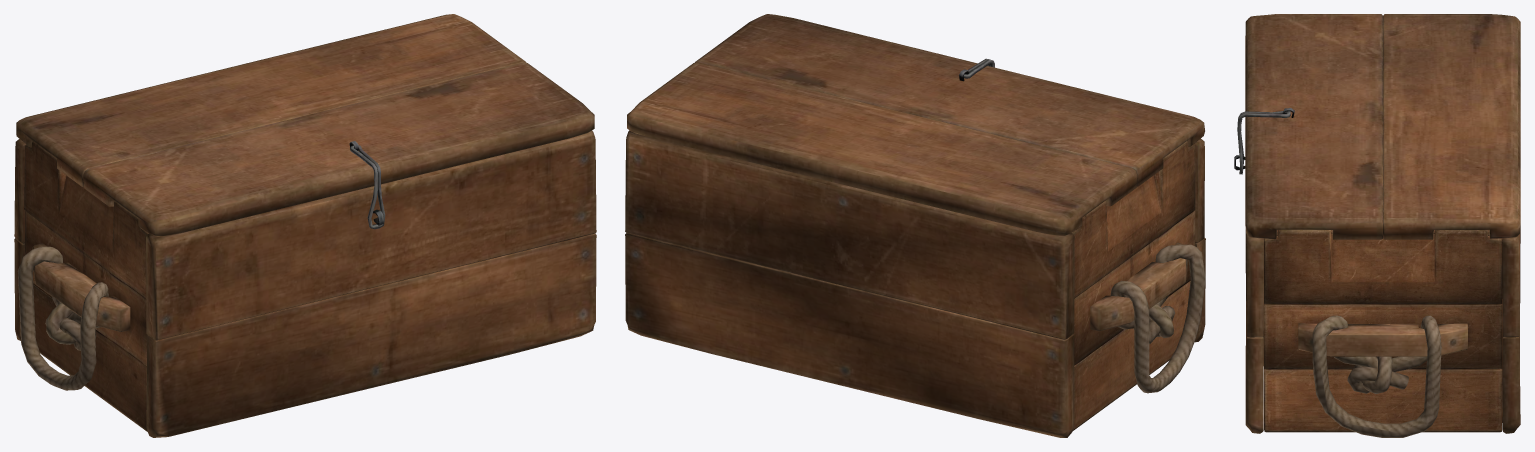
File: wooden_crate_01.glb
The picture shows the model from 3 angles, left to right: view 1: azimuth 30°, elevation 25°; view 2: azimuth 150°, elevation 25°; view 3: azimuth 270°, elevation 25°; orthographic projection. The views are drawn at different scales.
Visible parts, largest first — view 1: wooden_crate_01, wooden_crate_01_lid, wooden_crate_01_latch; view 2: wooden_crate_01, wooden_crate_01_lid; view 3: wooden_crate_01_lid, wooden_crate_01, wooden_crate_01_latch.
Part boxes in pixels (bbox=[...]): wooden_crate_01: bbox=[14, 131, 596, 437]; wooden_crate_01_lid: bbox=[16, 14, 594, 236]; wooden_crate_01_latch: bbox=[350, 145, 385, 229]; wooden_crate_01: bbox=[625, 130, 1205, 437]; wooden_crate_01_lid: bbox=[627, 14, 1204, 236]; wooden_crate_01_lid: bbox=[1245, 14, 1520, 239]; wooden_crate_01: bbox=[1234, 155, 1520, 437]; wooden_crate_01_latch: bbox=[1237, 111, 1290, 174].
Size of the model in its own units: 0.8245 by 0.3495 by 0.4072.
Materials: 1 (1 with a texture image).
